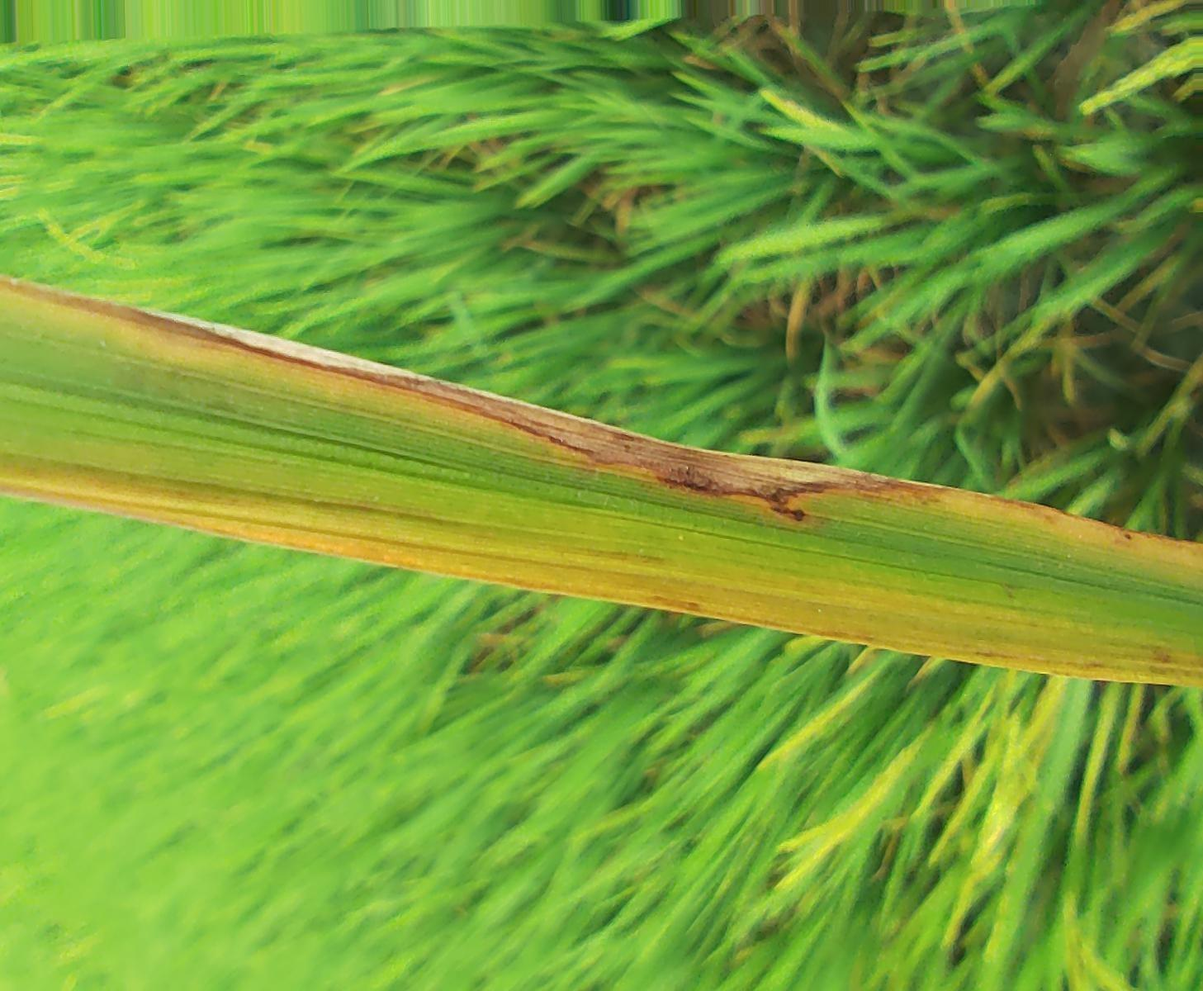LEAF: (0, 276, 1202, 685)
LEAF BLAST: (123, 302, 918, 523)
